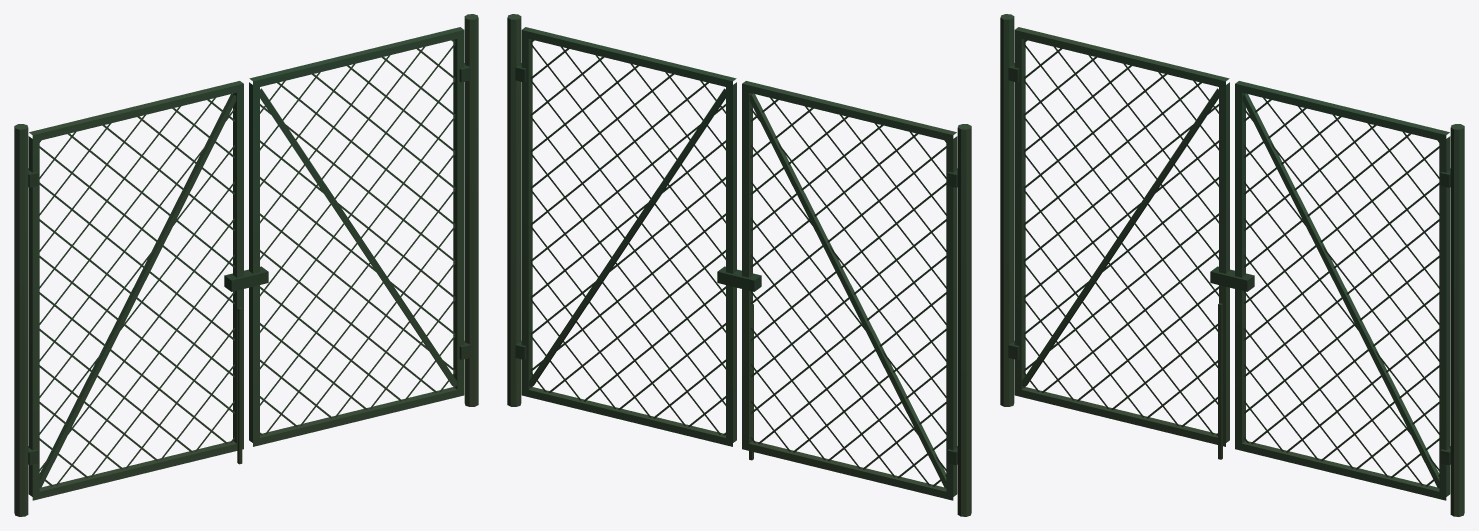
The model's file is fence.chainlink_gate.green.glb.
The picture shows the model from 3 angles, left to right: view 1: azimuth 30°, elevation 25°; view 2: azimuth 150°, elevation 25°; view 3: azimuth 330°, elevation 25°; orthographic projection.
Parts seen in each view (by area): view 1: fence_chainlink_gate_green; view 2: fence_chainlink_gate_green; view 3: fence_chainlink_gate_green.
Boxes of the visible parts, x1=… form: fence_chainlink_gate_green: x1=14, y1=14, x2=478, y2=516; fence_chainlink_gate_green: x1=507, y1=14, x2=971, y2=516; fence_chainlink_gate_green: x1=1000, y1=14, x2=1464, y2=516.
Size of what is drawn, in the model's own units: 3 by 2.4 by 0.08.
